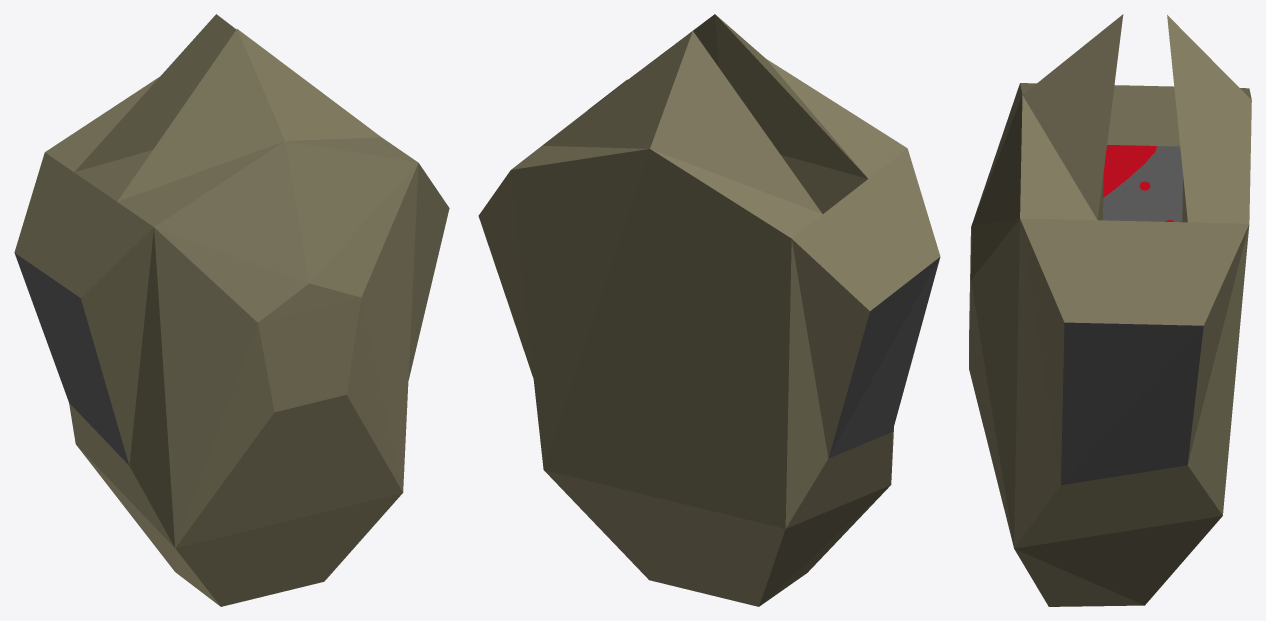
Rendered from head3.obj.
3 views of the same model, side by side, from view 1: azimuth 30°, elevation 25°; view 2: azimuth 150°, elevation 25°; view 3: azimuth 270°, elevation 25° (orthographic). The views are drawn at different scales.
Parts seen in each view (by area): view 1: MechHead3; view 2: MechHead3; view 3: MechHead3.
Boxes of the visible parts, x1,y1,x2,y2 form: MechHead3: (14, 14, 449, 606); MechHead3: (478, 14, 940, 606); MechHead3: (969, 14, 1251, 606).
Bounding box in the file's own units: 2.33 × 3.25 × 1.47.
Materials: 1 (1 with a texture image).
